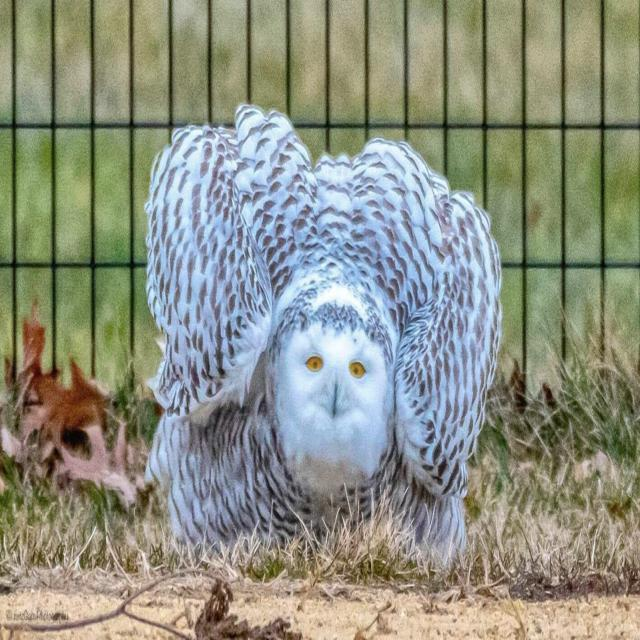owl: (145, 105, 502, 555)
